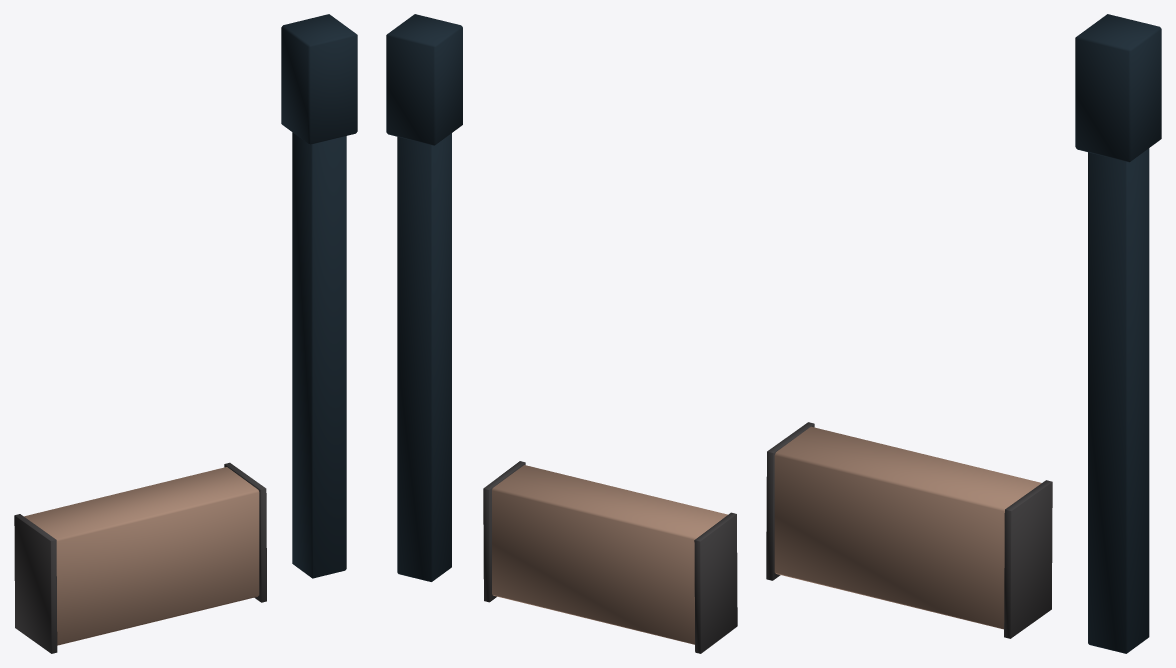
The model's file is Prop_ParkLampBench_CS.glb.
3 views of the same model, side by side, from view 1: azimuth 30°, elevation 25°; view 2: azimuth 150°, elevation 25°; view 3: azimuth 330°, elevation 25° (orthographic). The views are drawn at different scales.
Visible parts, largest first — view 1: Prop_ParkLampBench_CS; view 2: Prop_ParkLampBench_CS; view 3: Prop_ParkLampBench_CS.
Part boxes in pixels (x1=…): Prop_ParkLampBench_CS: x1=14, y1=14, x2=357, y2=653; Prop_ParkLampBench_CS: x1=386, y1=14, x2=737, y2=653; Prop_ParkLampBench_CS: x1=766, y1=14, x2=1161, y2=653.
Bounding box in the file's own units: 2.98 × 4.88 × 0.6101.
